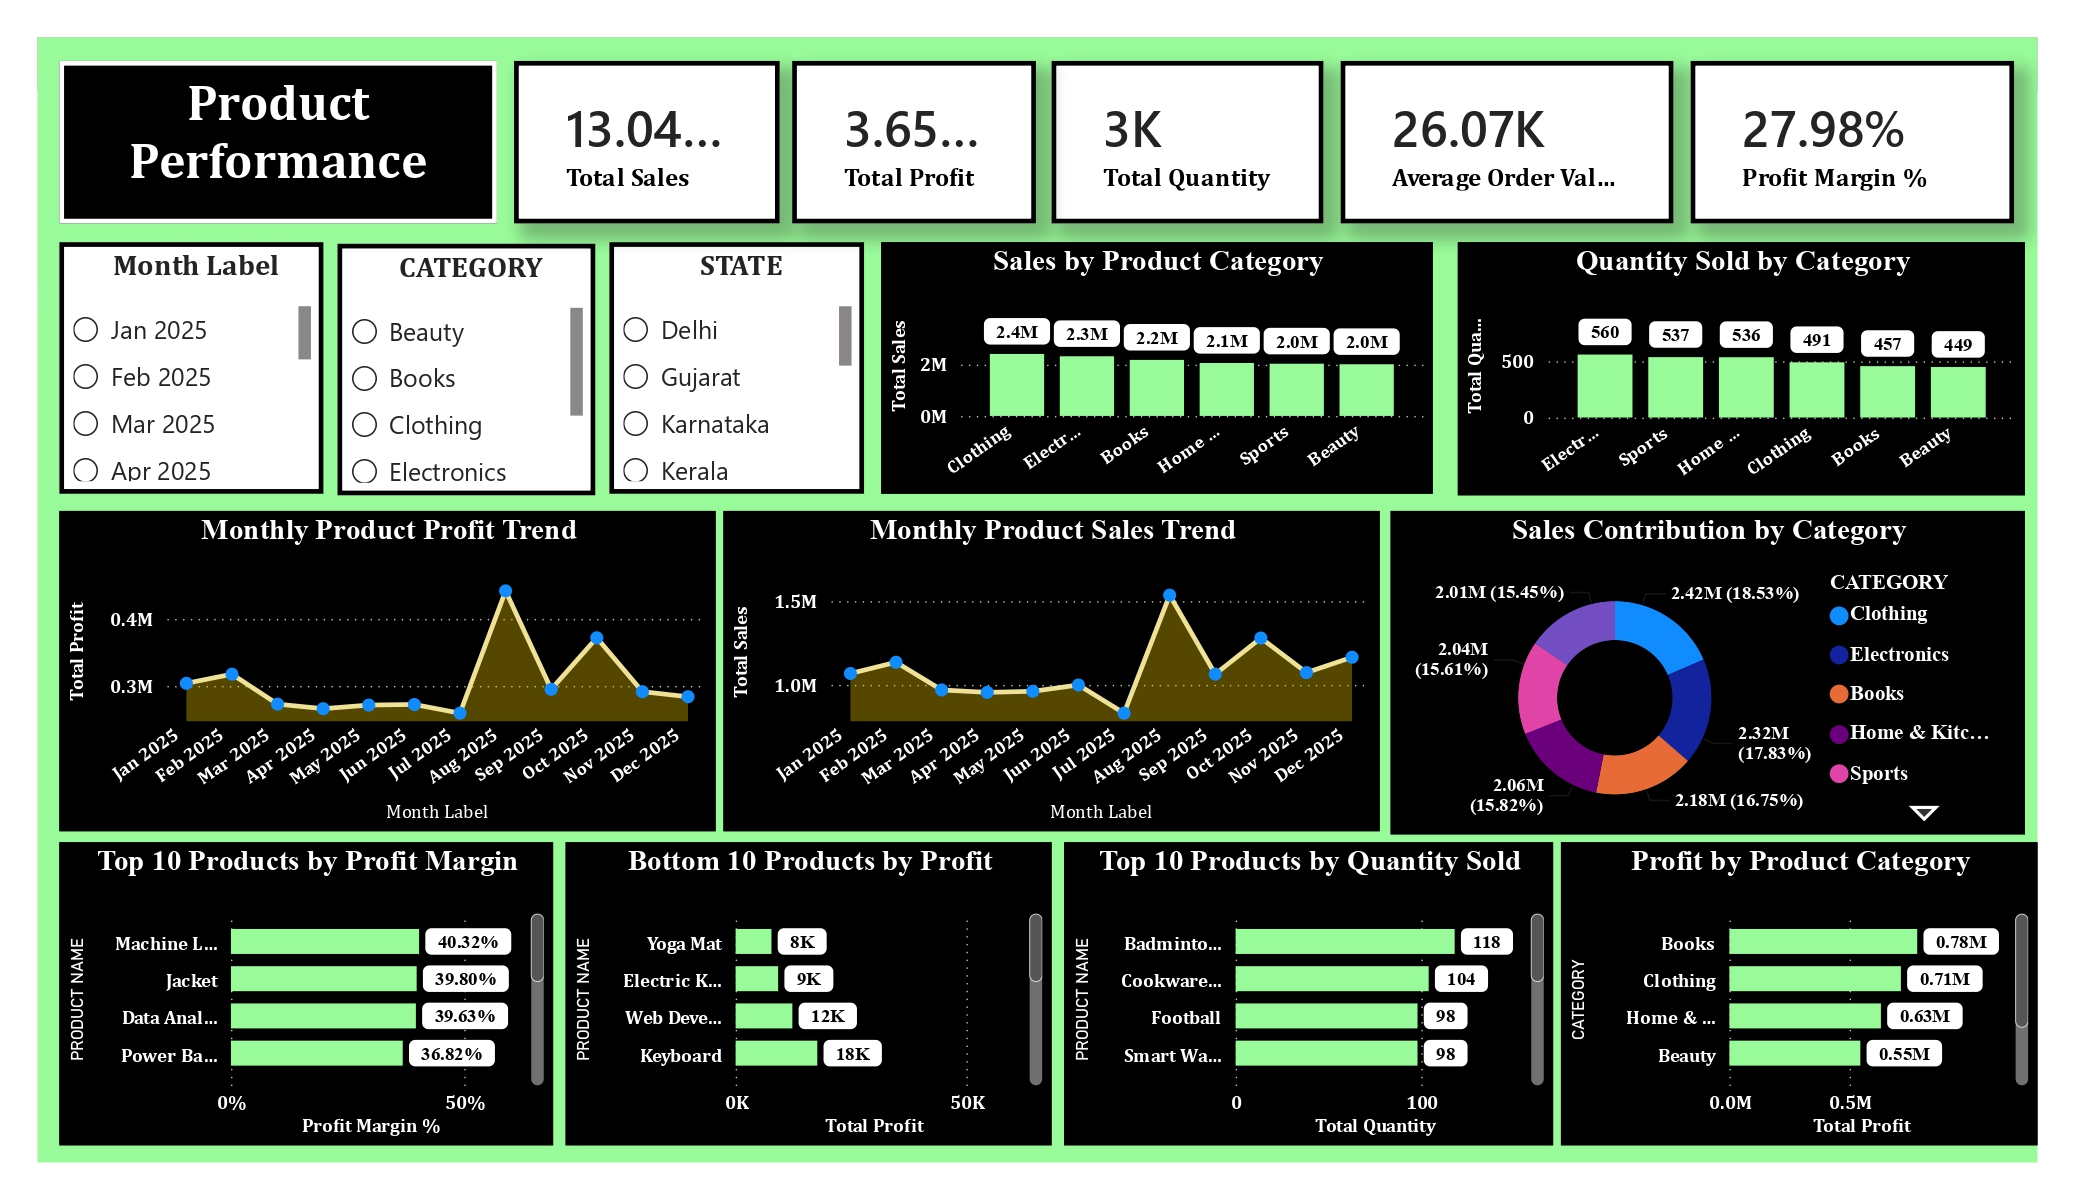

The dashboard page shown, as its layout file describes it:
{"tool":"powerbi","page":{"name":"Product Performance","canvas":[1280,720],"ordinal":3},"visuals":[{"type":"textbox","box":[13.7,15.1,279.9,104.3],"z":0},{"type":"listSlicer","fields":{"Values":["customers.STATE"]},"box":[366,131,163,161],"z":1000},{"type":"listSlicer","title":"Month Label","fields":{"Values":["orders.Month Label"]},"box":[14,131,169,161],"z":2000},{"type":"listSlicer","fields":{"Values":["products.CATEGORY"]},"box":[192,132,165,161],"z":3000},{"type":"cardVisual","fields":{"Data":["customers.Total Sales"]},"box":[304.6,15.1,170.2,104.3],"z":4000},{"type":"cardVisual","fields":{"Data":["customers.Total Quantity"]},"box":[649.1,15.1,174.3,104.3],"z":5000},{"type":"cardVisual","fields":{"Data":["customers.Total Profit"]},"box":[483,15.1,156.4,104.3],"z":6000},{"type":"cardVisual","fields":{"Data":["customers.Average Order Value"]},"box":[834.3,15.1,212.7,104.3],"z":7000},{"type":"cardVisual","fields":{"Data":["customers.Profit Margin %"]},"box":[1058,15.1,207.2,104.3],"z":8000},{"type":"clusteredColumnChart","title":"Sales by Product Category","fields":{"Category":["products.CATEGORY"],"Y":["customers.Total Sales"]},"box":[540,131,353,161],"z":9000},{"type":"clusteredBarChart","title":"Profit by Product Category","fields":{"Category":["products.CATEGORY"],"Y":["customers.Total Profit"]},"box":[975,515,305,194],"z":10000},{"type":"clusteredBarChart","title":"Top 10 Products by Quantity Sold","fields":{"Category":["products.PRODUCT NAME"],"Y":["customers.Total Quantity"]},"box":[657,515,313,194],"z":11000},{"type":"clusteredBarChart","title":"Bottom 10 Products by Profit","fields":{"Category":["products.PRODUCT NAME"],"Y":["customers.Total Profit"]},"box":[338,515,311,194],"z":12000},{"type":"clusteredBarChart","title":"Top 10 Products by Profit Margin","fields":{"Category":["products.PRODUCT NAME"],"Y":["customers.Profit Margin %"]},"box":[14,515,316,194],"z":13000},{"type":"donutChart","title":"Sales Contribution by Category","fields":{"Category":["products.CATEGORY"],"Y":["customers.Total Sales"]},"box":[866,303,406,207],"z":14000},{"type":"clusteredColumnChart","title":"Quantity Sold by Category","fields":{"Category":["products.CATEGORY"],"Y":["customers.Total Quantity"]},"box":[909,131,363,162],"z":15000},{"type":"lineChart","title":"Monthly Product Sales Trend","fields":{"Category":["orders.Month Label"],"Y":["customers.Total Sales"]},"box":[439,303,420,205],"z":16000},{"type":"lineChart","title":"Monthly Product Profit Trend","fields":{"Category":["orders.Month Label"],"Y":["customers.Total Profit"]},"box":[14,303,420,205],"z":17000}]}

Visuals, with their boxes in screenshot pixels (x1, y1, x2, y2):
textbox: rect(64, 67, 496, 227)
listSlicer - customers.STATE: rect(608, 245, 859, 493)
"Month Label" listSlicer: rect(65, 245, 325, 493)
listSlicer - products.CATEGORY: rect(339, 247, 594, 495)
cardVisual - customers.Total Sales: rect(513, 67, 775, 227)
cardVisual - customers.Total Quantity: rect(1044, 67, 1313, 227)
cardVisual - customers.Total Profit: rect(788, 67, 1029, 227)
cardVisual - customers.Average Order Value: rect(1330, 67, 1658, 227)
cardVisual - customers.Profit Margin %: rect(1675, 67, 1994, 227)
"Sales by Product Category" clusteredColumnChart: rect(876, 245, 1420, 493)
"Profit by Product Category" clusteredBarChart: rect(1547, 837, 2017, 1137)
"Top 10 Products by Quantity Sold" clusteredBarChart: rect(1056, 837, 1539, 1137)
"Bottom 10 Products by Profit" clusteredBarChart: rect(564, 837, 1044, 1137)
"Top 10 Products by Profit Margin" clusteredBarChart: rect(65, 837, 552, 1137)
"Sales Contribution by Category" donutChart: rect(1379, 510, 2005, 830)
"Quantity Sold by Category" clusteredColumnChart: rect(1445, 245, 2005, 495)
"Monthly Product Sales Trend" lineChart: rect(720, 510, 1368, 827)
"Monthly Product Profit Trend" lineChart: rect(65, 510, 712, 827)
